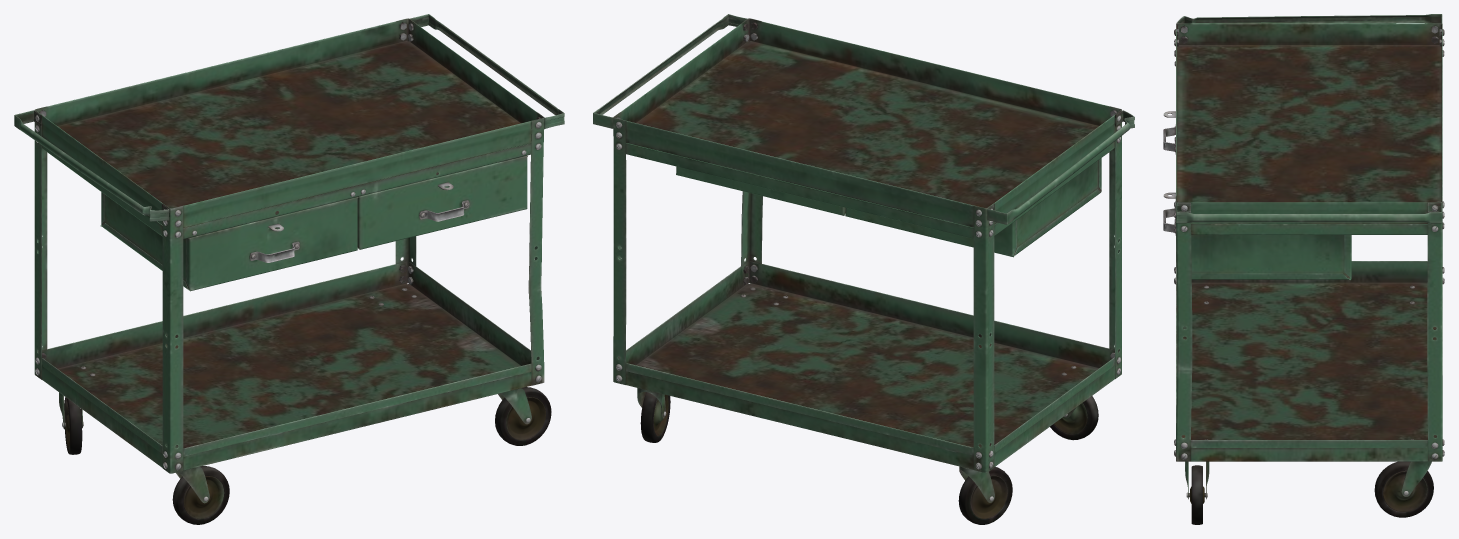
Rendered from tool_cart.glb.
The picture shows the model from 3 angles, left to right: view 1: azimuth 30°, elevation 25°; view 2: azimuth 150°, elevation 25°; view 3: azimuth 270°, elevation 25°; orthographic projection. The views are drawn at different scales.
Parts seen in each view (by area): view 1: tool_cart; view 2: tool_cart; view 3: tool_cart.
Part boxes in pixels (x1,y1,x2,y2): tool_cart: (14, 14, 564, 524); tool_cart: (593, 14, 1134, 524); tool_cart: (1163, 14, 1444, 524).
Bounding box in the file's own units: 1.27 × 0.9646 × 0.7536.
Materials: 1 (1 with a texture image).
